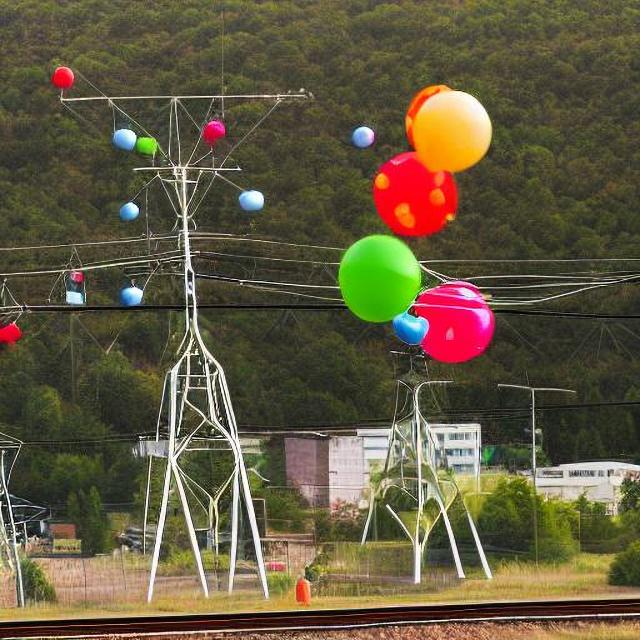balloon: (332, 242, 493, 359), (384, 276, 496, 362), (398, 85, 494, 176), (331, 231, 423, 325), (369, 147, 459, 234), (348, 122, 376, 150), (236, 187, 265, 213), (48, 62, 73, 90), (111, 126, 137, 152), (117, 196, 140, 222)
floating object: (196, 116, 228, 146), (65, 266, 86, 305), (117, 282, 144, 306), (292, 576, 312, 605)
